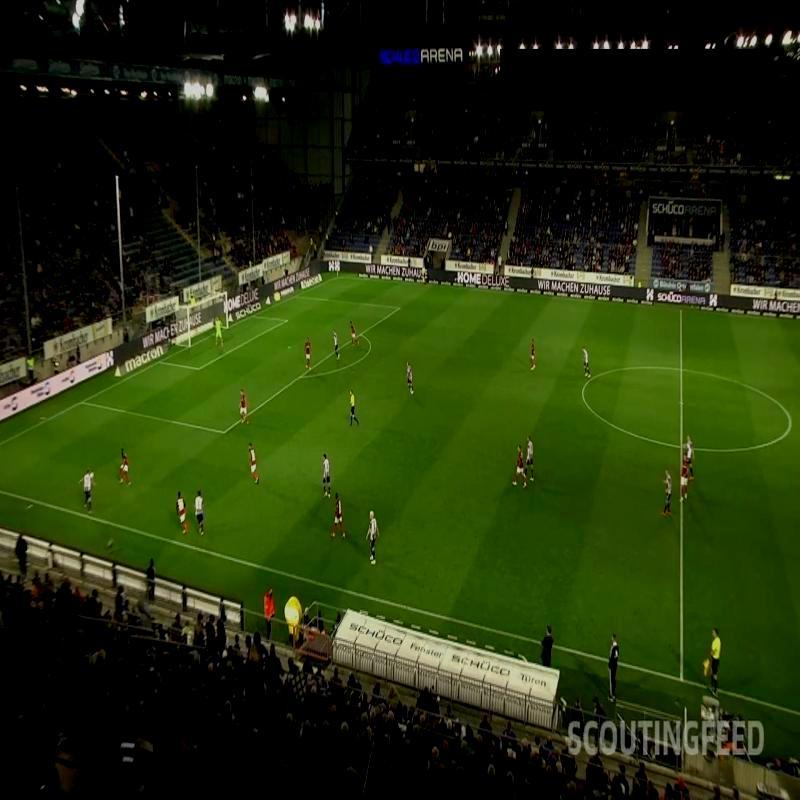1: (330, 270, 344, 284)
10: (354, 326, 368, 340)
11: (294, 368, 308, 382)
12: (216, 426, 230, 440)
13: (675, 302, 689, 316)
14: (675, 360, 689, 374)
15: (675, 439, 689, 454)
16: (674, 670, 691, 690)
2: (289, 288, 303, 302)
3: (246, 309, 260, 323)
4: (153, 355, 167, 368)
5: (75, 394, 90, 408)
7: (280, 312, 294, 326)
8: (192, 360, 206, 374)
9: (392, 300, 407, 314)
c: (785, 414, 796, 435), (576, 384, 590, 398)
